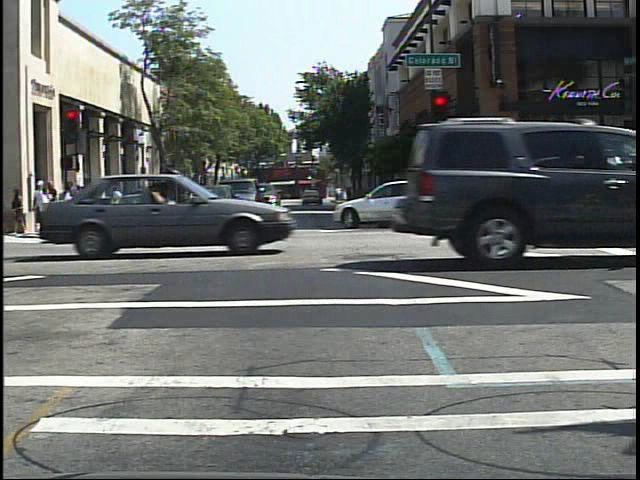person: (105, 179, 126, 227)
